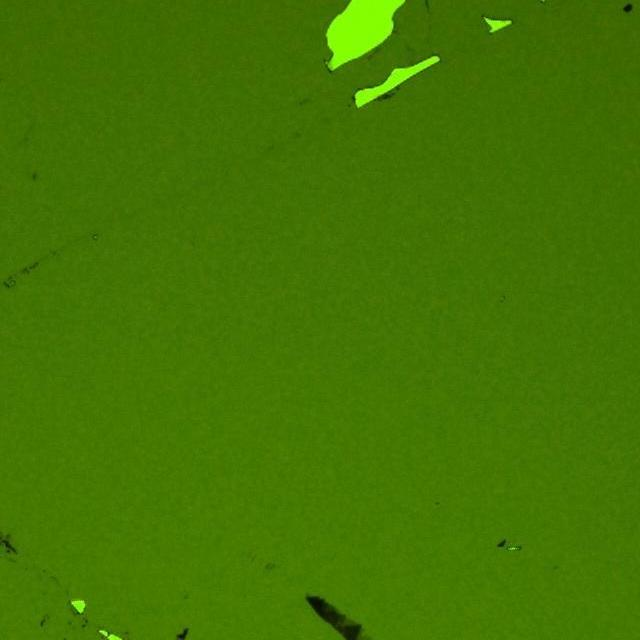monolayer-eWW4: (358, 629, 376, 640), (342, 615, 356, 628)
